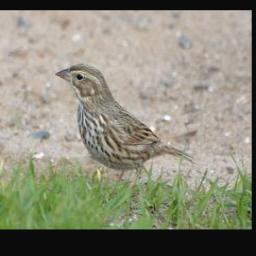Sparrow: (53, 58, 195, 210)
